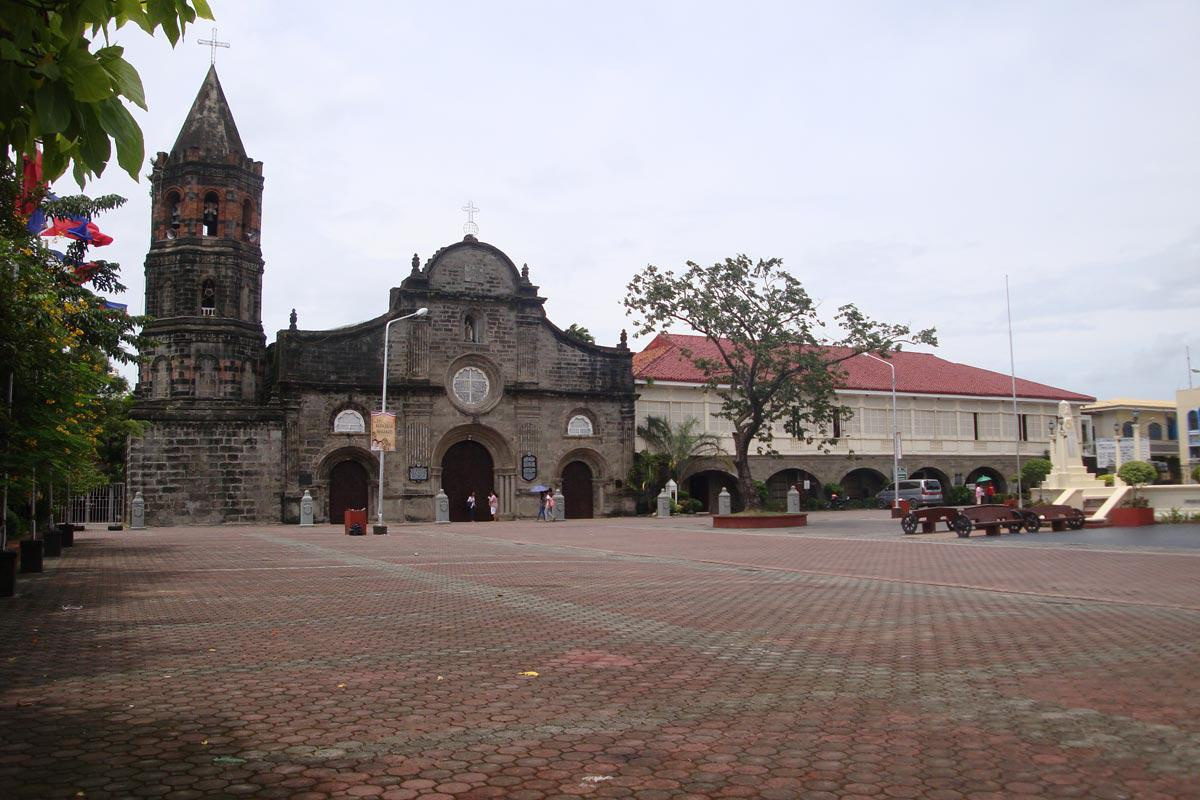barasoain_church_malolos_bulacan: (120, 24, 640, 525)
